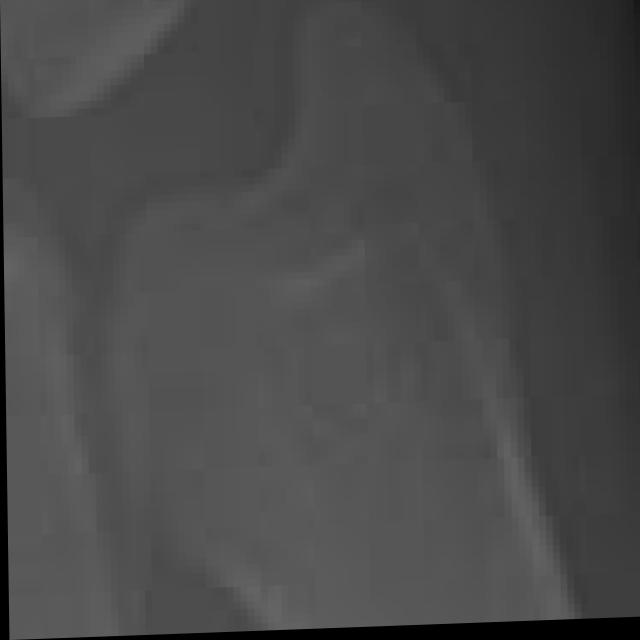fracture: (7, 0, 640, 640)
